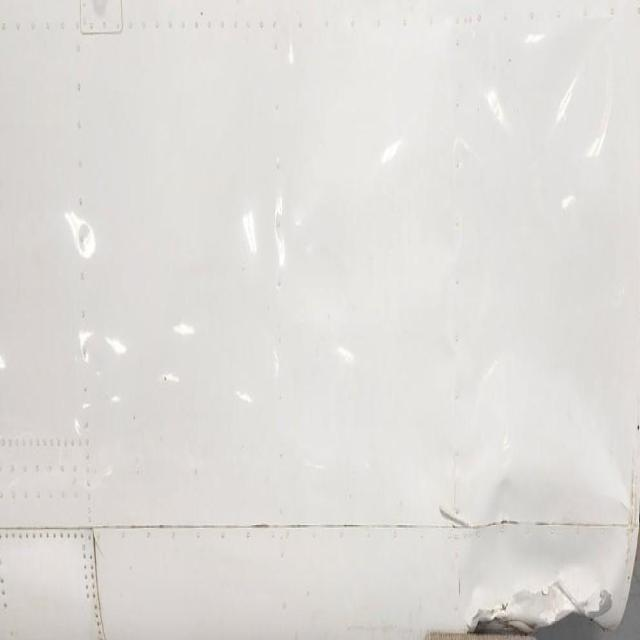Dent: (465, 476, 638, 632)
